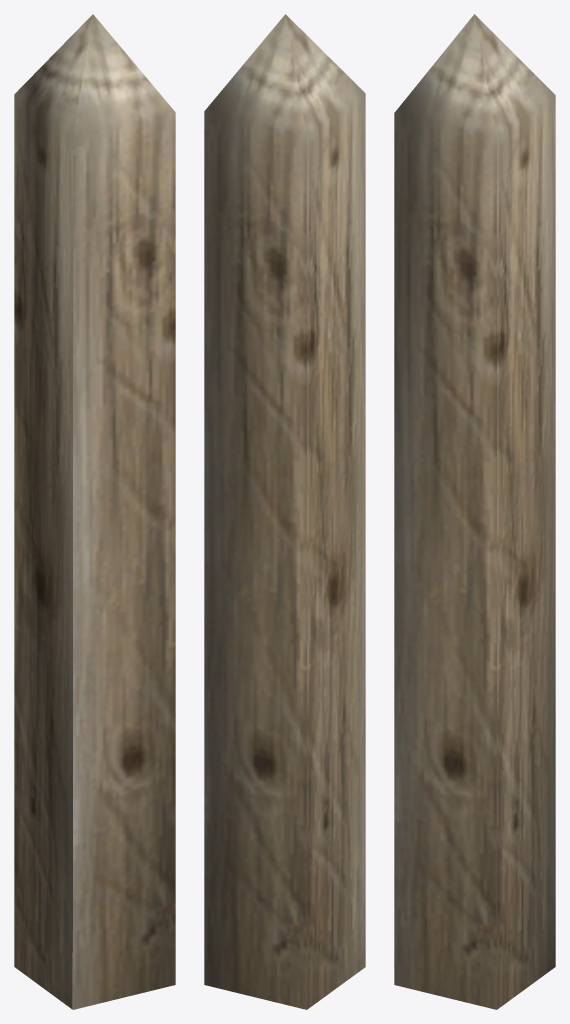
Rendered from westfallfencepost.obj.
The picture shows the model from 3 angles, left to right: view 1: azimuth 30°, elevation 25°; view 2: azimuth 150°, elevation 25°; view 3: azimuth 330°, elevation 25°; orthographic projection.
Bounding box in the file's own units: 0.2748 × 2.46 × 0.2725.
Materials: 1 (1 with a texture image).
